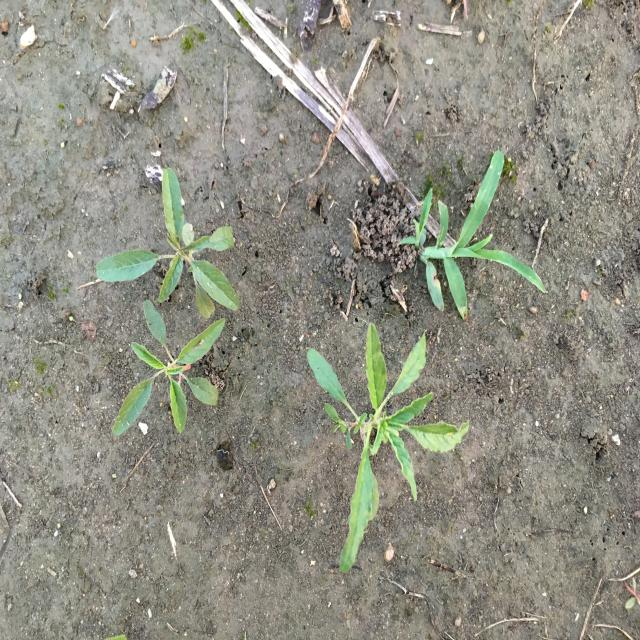Goosegrass: (397, 150, 547, 322)
Waterhemp: (305, 321, 472, 575), (94, 167, 241, 321), (111, 300, 227, 438)
